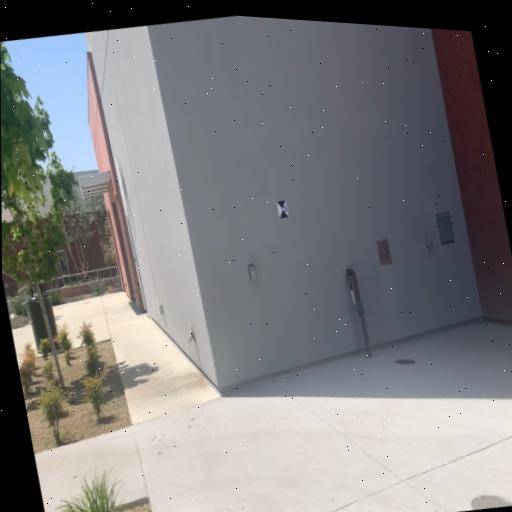target5: (276, 198, 289, 219)
